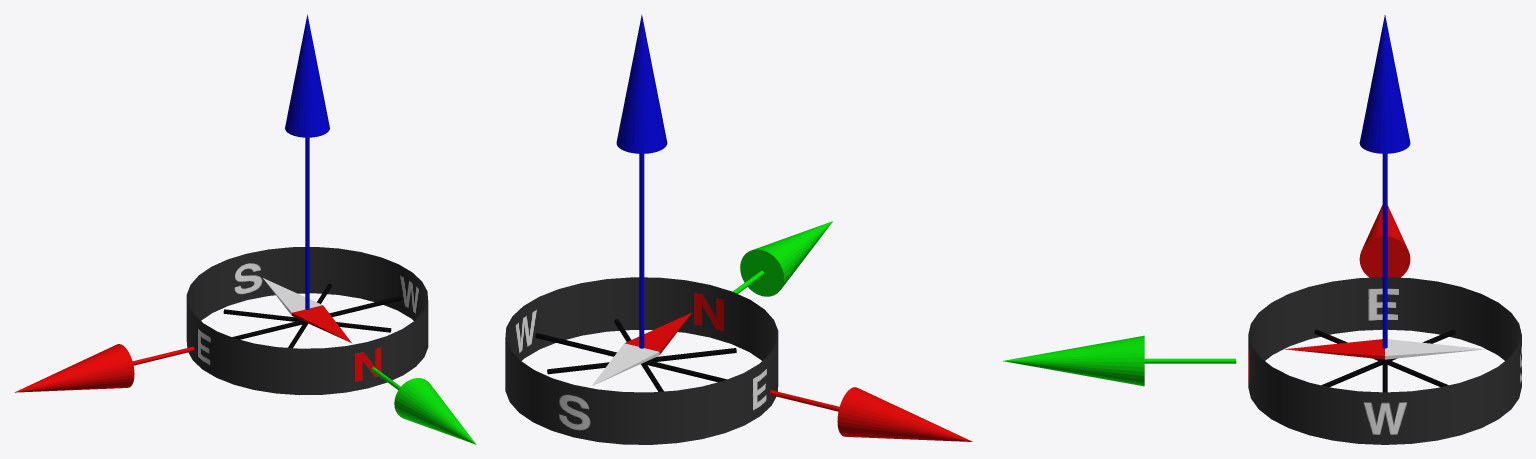
Rendered from XYZ_02.fbx.
3 views of the same model, side by side, from view 1: azimuth 30°, elevation 25°; view 2: azimuth 150°, elevation 25°; view 3: azimuth 270°, elevation 25° (orthographic). The views are drawn at different scales.
Parts seen in each view (by area): view 1: Cylinder.004, Cylinder.003, Cone, Cone.002, Cone.001, Cube, Cylinder, Cylinder.008; view 2: Cylinder.004, Cylinder.003, Cone, Cone.002, Cone.001, Cube, Cylinder, Cylinder.007, Cylinder.006, Cylinder.005; view 3: Cylinder.004, Cylinder.003, Cone, Cone.001, Cube, Cone.002, Cylinder, Cylinder.007, Cylinder.008, Cylinder.001.
Boxes of the visible parts, x1,y1,x2,y2 form: Cylinder.004: [186, 247, 428, 395]; Cylinder.003: [188, 247, 426, 348]; Cone: [285, 14, 329, 137]; Cone.002: [14, 344, 134, 392]; Cone.001: [394, 378, 476, 444]; Cube: [263, 278, 351, 342]; Cylinder: [305, 137, 309, 309]; Cylinder.008: [223, 309, 391, 332]; Cylinder.004: [505, 277, 778, 444]; Cylinder.003: [506, 278, 776, 392]; Cone: [616, 14, 667, 153]; Cone.002: [837, 387, 972, 441]; Cone.001: [740, 221, 832, 296]; Cube: [591, 312, 692, 386]; Cylinder: [639, 154, 644, 348]; Cylinder.007: [547, 348, 736, 374]; Cylinder.006: [535, 333, 726, 379]; Cylinder.005: [537, 333, 726, 382]; Cylinder.004: [1248, 277, 1521, 444]; Cylinder.003: [1249, 278, 1520, 392]; Cone: [1359, 15, 1410, 153]; Cone.001: [1003, 335, 1144, 386]; Cube: [1285, 339, 1484, 359]; Cone.002: [1359, 205, 1410, 277]; Cylinder: [1382, 153, 1387, 348]; Cylinder.007: [1314, 329, 1448, 387]; Cylinder.008: [1321, 329, 1455, 386]; Cylinder.001: [1144, 358, 1236, 363].
Bounding box in the file's own units: 409 × 324 × 409.
Materials: 6 (1 with a texture image).
